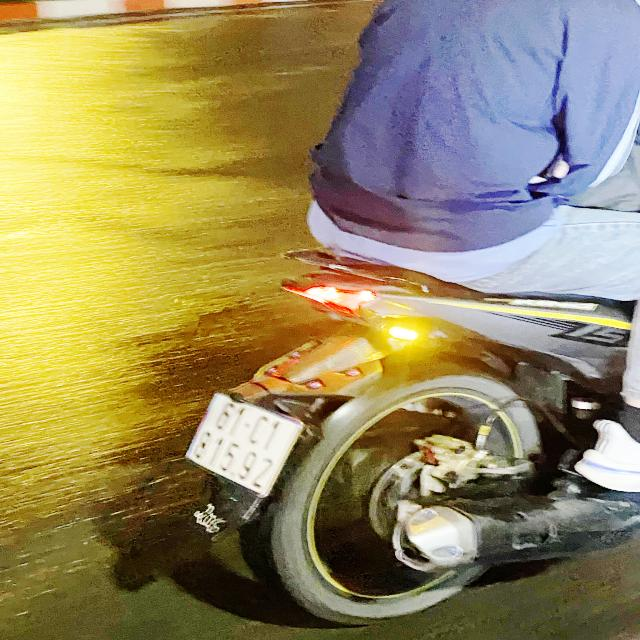license_plate: (183, 392, 303, 498)
